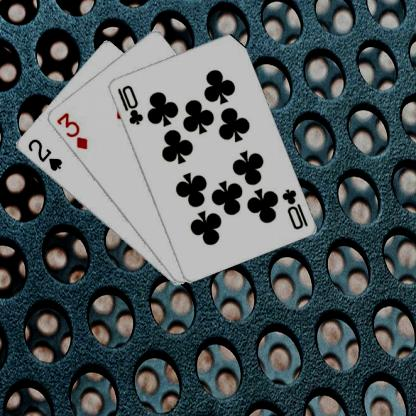10C: (279, 186, 309, 231), (114, 82, 144, 126)
2S: (24, 136, 64, 172)
3D: (53, 109, 89, 151)
